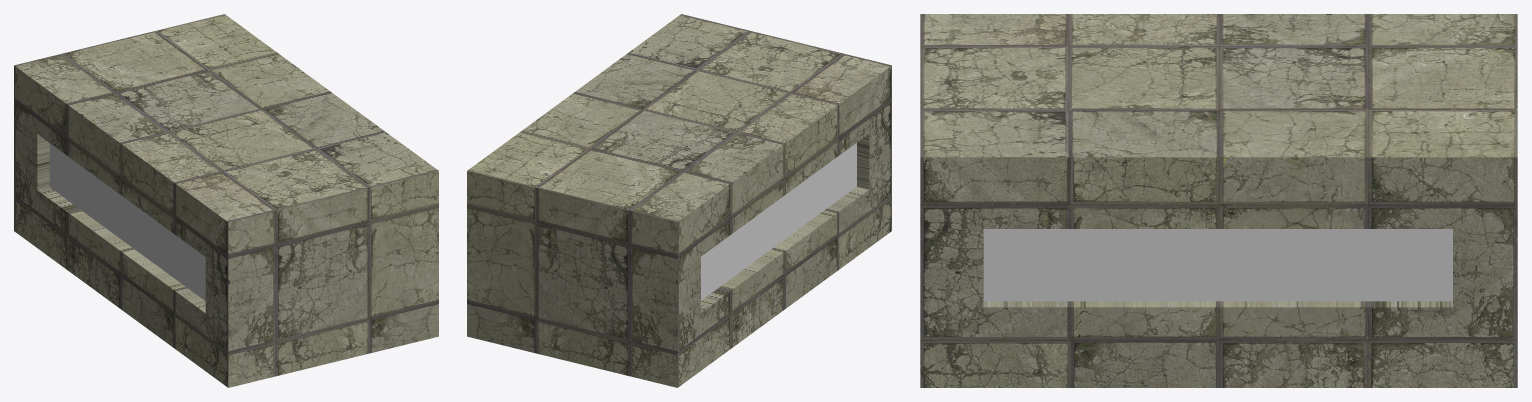
The model's file is SM_Corridor_05_moving_00.fbx.
3 views of the same model, side by side, from view 1: azimuth 30°, elevation 25°; view 2: azimuth 150°, elevation 25°; view 3: azimuth 270°, elevation 25° (orthographic). The views are drawn at different scales.
Visible parts, largest first — view 1: SM_Corridor_05_moving_00; view 2: SM_Corridor_05_moving_00; view 3: SM_Corridor_05_moving_00.
Part boxes in pixels (x1=…): SM_Corridor_05_moving_00: x1=14, y1=14, x2=438, y2=387; SM_Corridor_05_moving_00: x1=467, y1=14, x2=891, y2=387; SM_Corridor_05_moving_00: x1=920, y1=14, x2=1517, y2=387.
Bounding box in the file's own units: 1132 × 851 × 1996.
